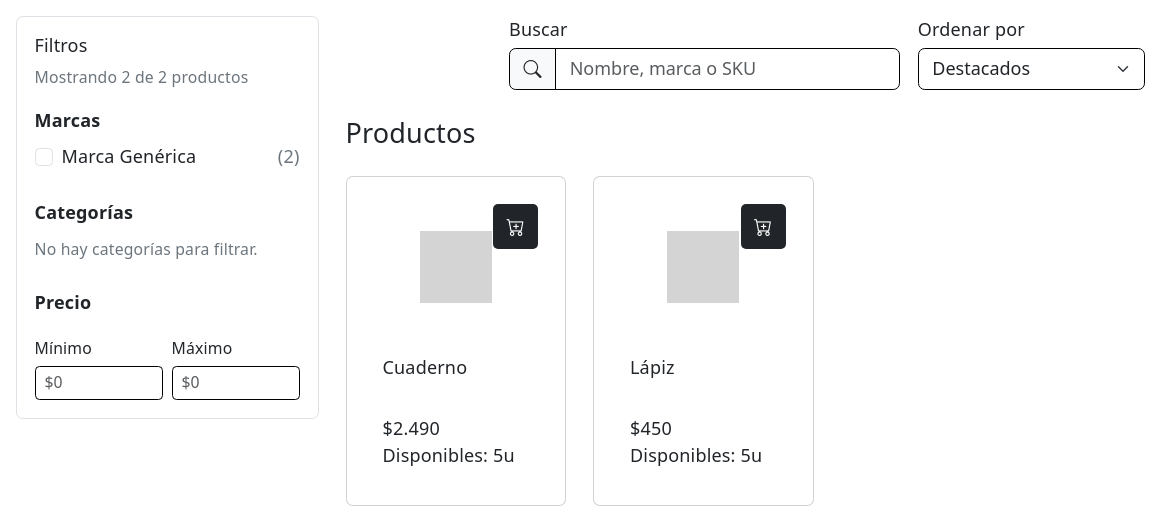
Test: Products › Filtra la grilla por búsqueda de texto
Expected: the heading "Cuaderno" is shown, x1=382 y1=355 x2=467 y2=379
Type "lapiz" into the search field labelled "Buscar" at (728, 69), box x1=555 y1=48 x2=900 y2=90
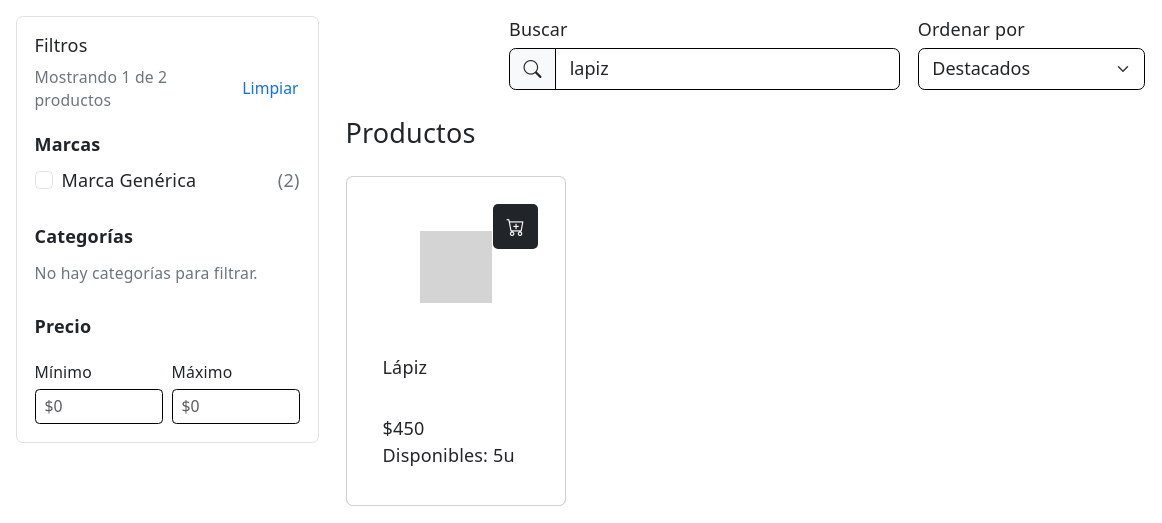
Expected: the heading "Lápiz" is shown, x1=382 y1=355 x2=427 y2=379
Expected: the heading "Cuaderno" is gone
